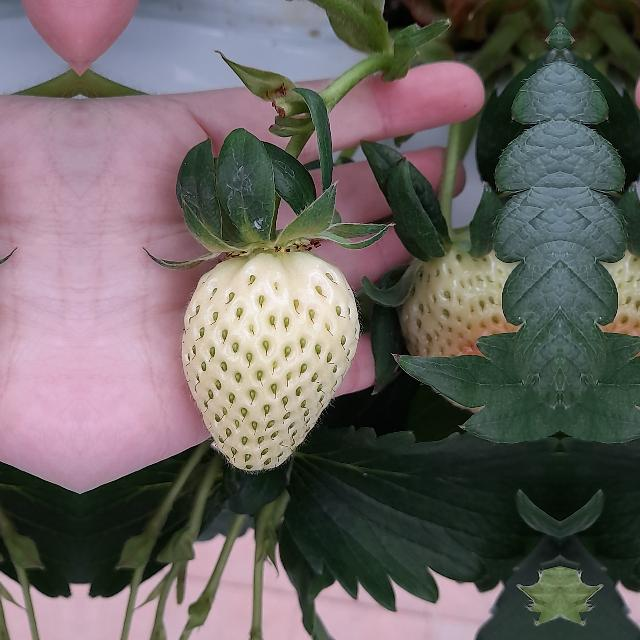Health_25: (182, 248, 358, 470)
Health_50: (396, 232, 540, 396), (580, 232, 640, 396)
